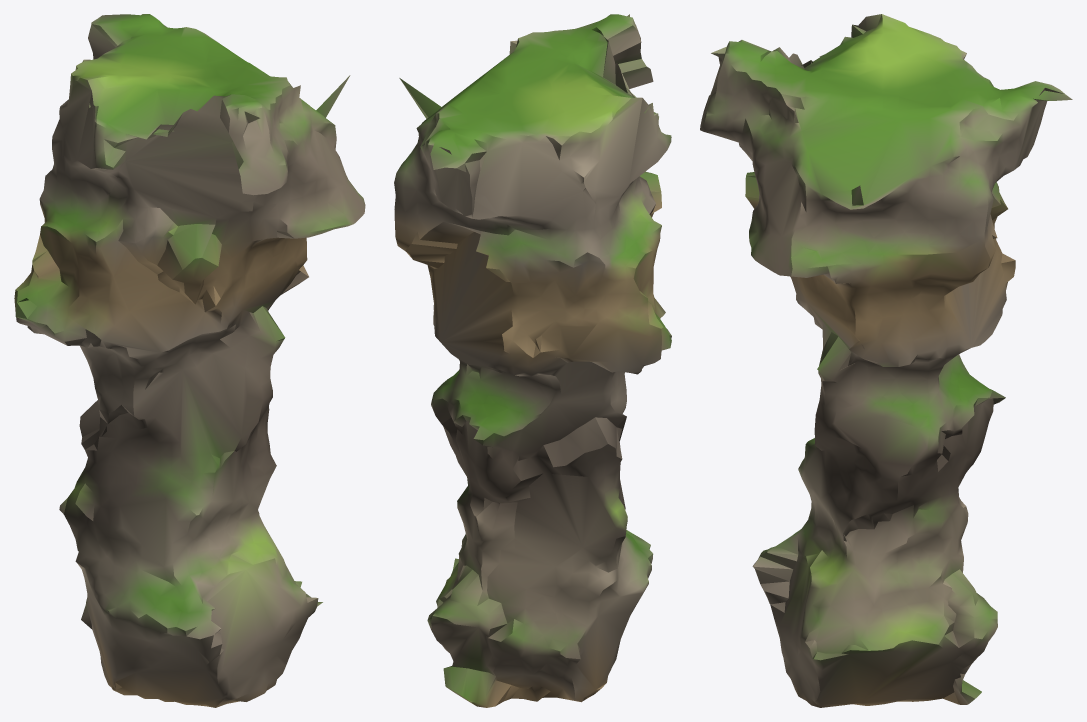
Rendered from glade_cliff_pillar.glb.
3 renders of one model, left to right at view 1: azimuth 30°, elevation 25°; view 2: azimuth 150°, elevation 25°; view 3: azimuth 270°, elevation 25°, orthographic. The views are drawn at different scales.
Visible parts, largest first — view 1: glade_cliff_pillar; view 2: glade_cliff_pillar; view 3: glade_cliff_pillar.
Part boxes in pixels (<box>): glade_cliff_pillar: <box>14,14,365,707</box>; glade_cliff_pillar: <box>394,14,671,707</box>; glade_cliff_pillar: <box>700,14,1072,707</box>.
Size of the model in its own units: 7.99 by 15.84 by 8.37.
